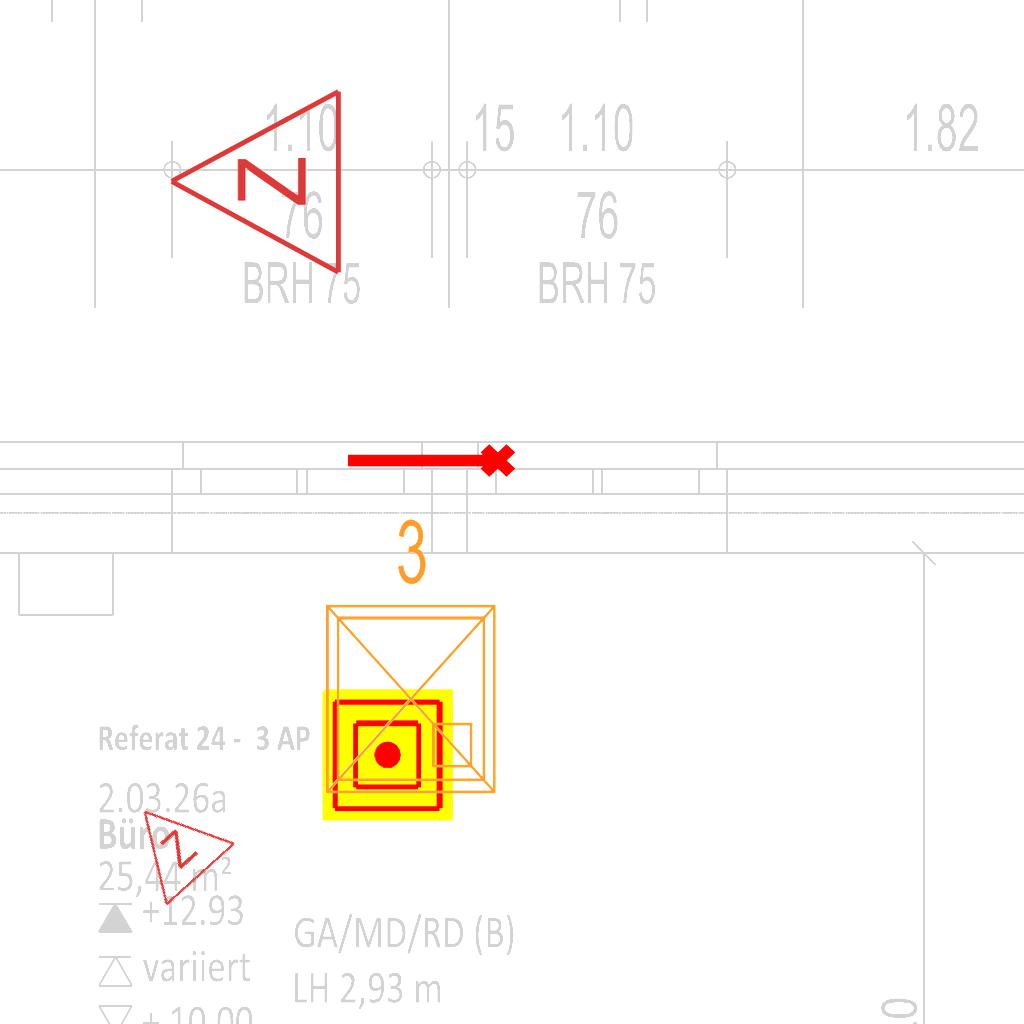ASR_Ansaugoeffnung: (342, 440, 518, 486)
Einbaudownlights_LED_Konferenzraeume: (303, 508, 511, 808)
NAM-Nichtautomatischer_Melder: (322, 689, 454, 821)
Zimmersignalleuchte: (156, 86, 356, 282), (102, 774, 242, 914)
